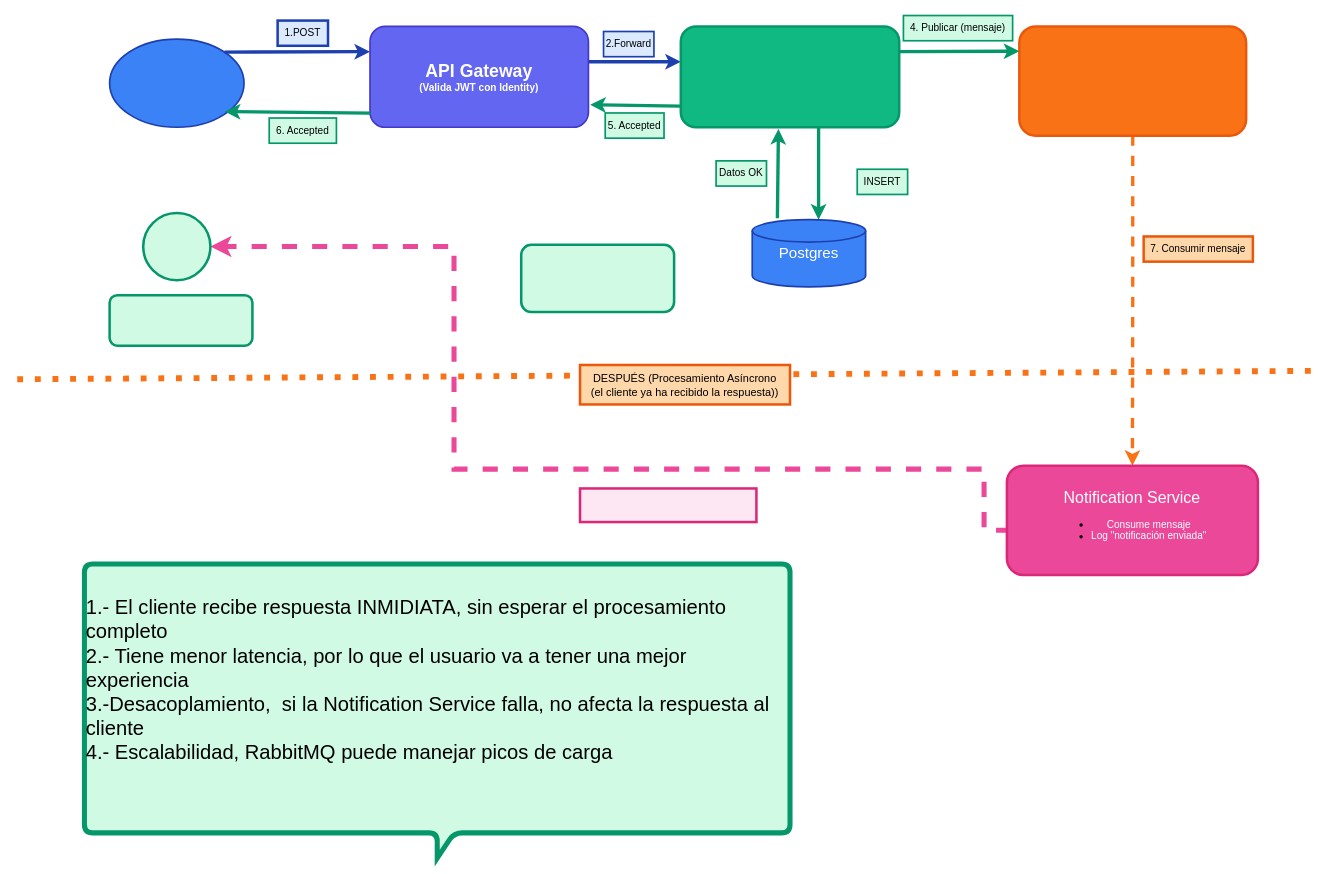
This 1329x874 diagram has some shape labels left out. The centre of each missing label's shape, as x and y in pixels:
8. Enviar notificación (más tarde): (x=667, y=505)
Cliente: (x=176, y=83)
DESBLOQUEADO (puede seguir trabajando): (x=180, y=320)
LISTO: (x=176, y=246)
RabbitMQ (Cola de notificaciones): (x=1132, y=80)
RESPUESTA INMEDIATA (Cliente NO espera más): (x=597, y=278)
Submission Service Recibe anteproyecto Guarda en Postgres pagblica en RabbitMQ: (x=789, y=76)
